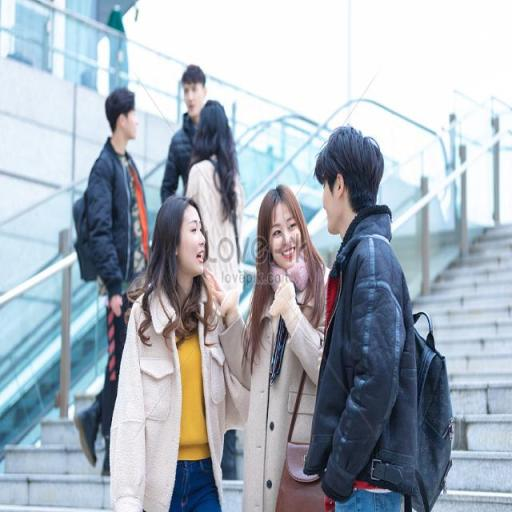person: (113, 203, 252, 512), (313, 133, 422, 512), (69, 92, 150, 477), (252, 184, 339, 512), (187, 101, 245, 319), (161, 65, 208, 206)
